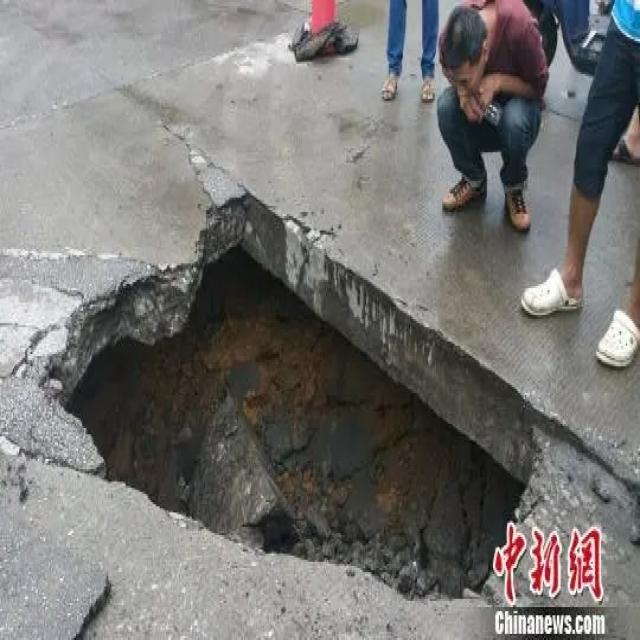Pothole: (37, 177, 544, 599)
